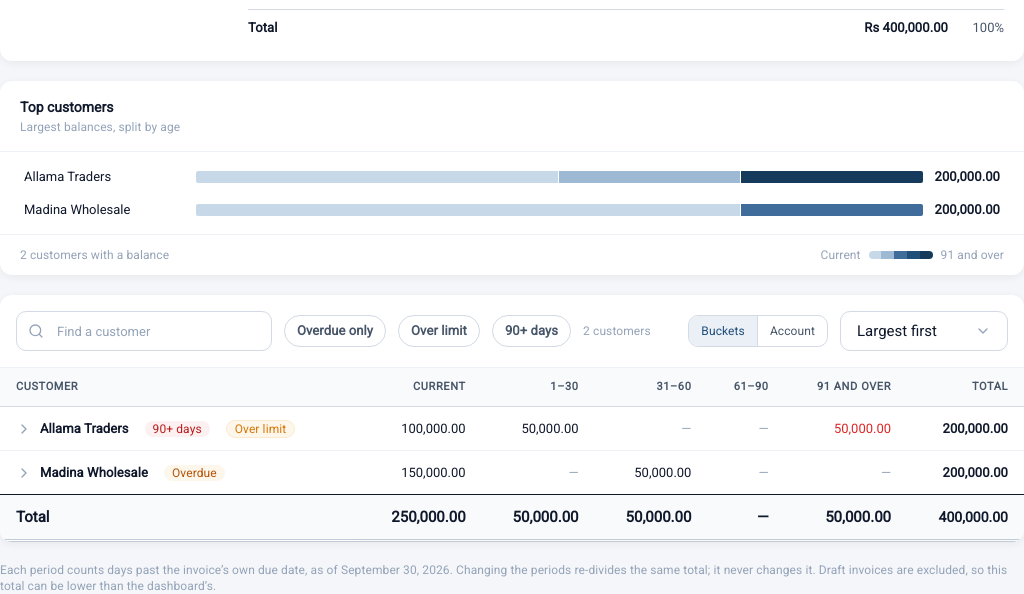
it: ArAgingPage (reports v2) › links an open party row to its summary and its page
(page scrolled)
Click the button "Allama Traders 90+ days Over limit".
click(156, 428)  # box 16,420 -> 295,438
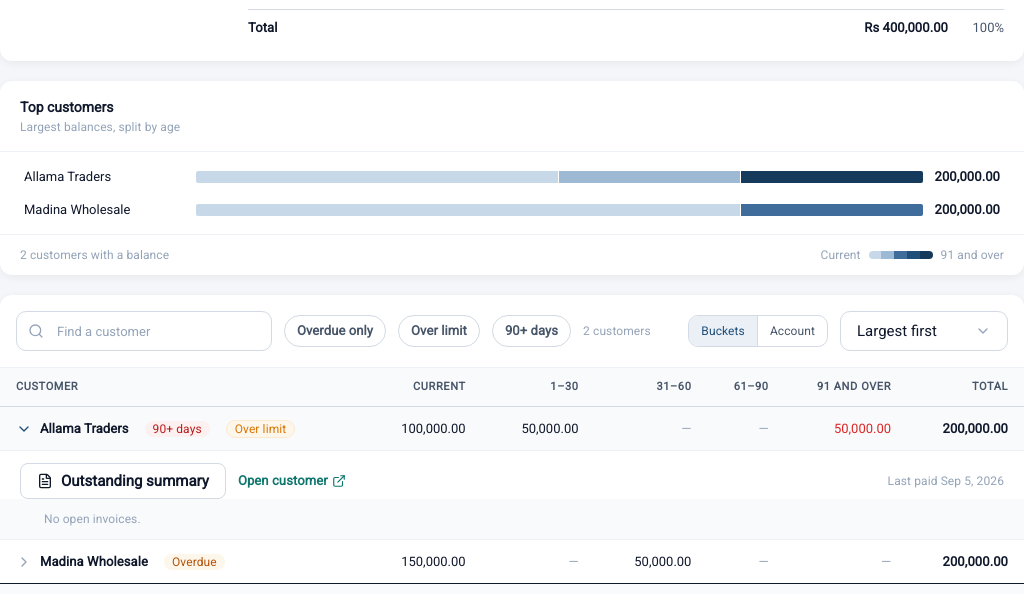
Now the button "Outstanding summary" is shown, box 20,463 -> 226,499
